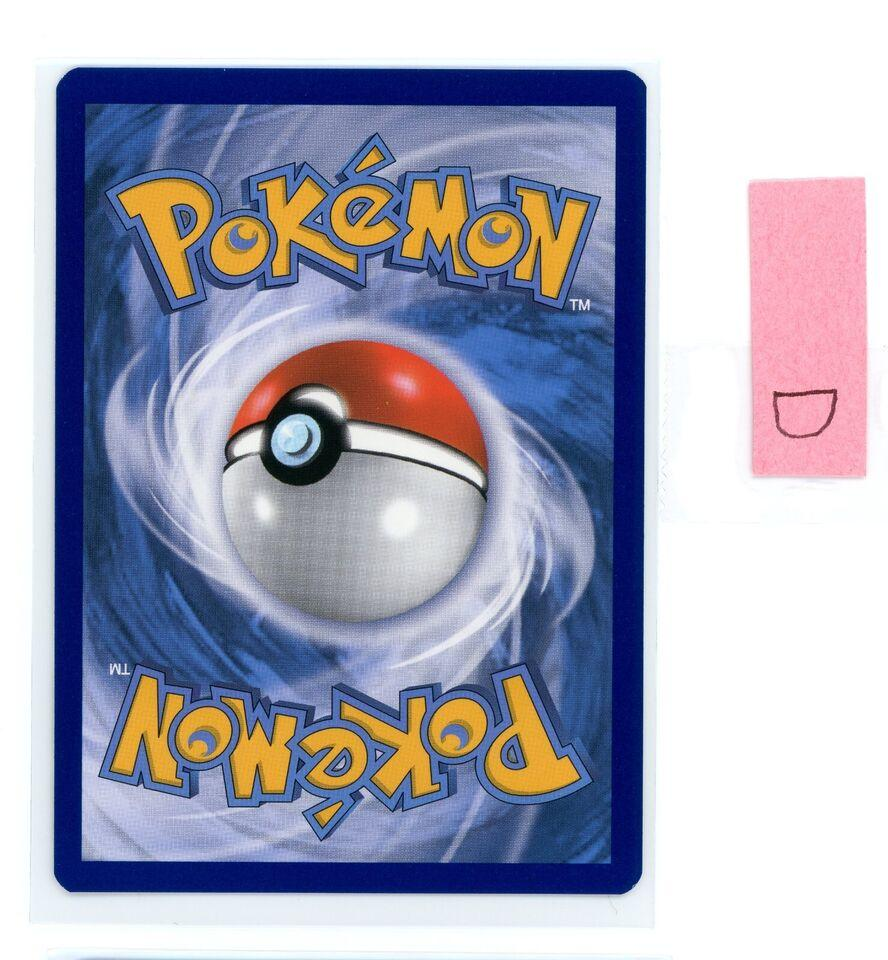card-2UtV: (53, 66, 647, 895)
